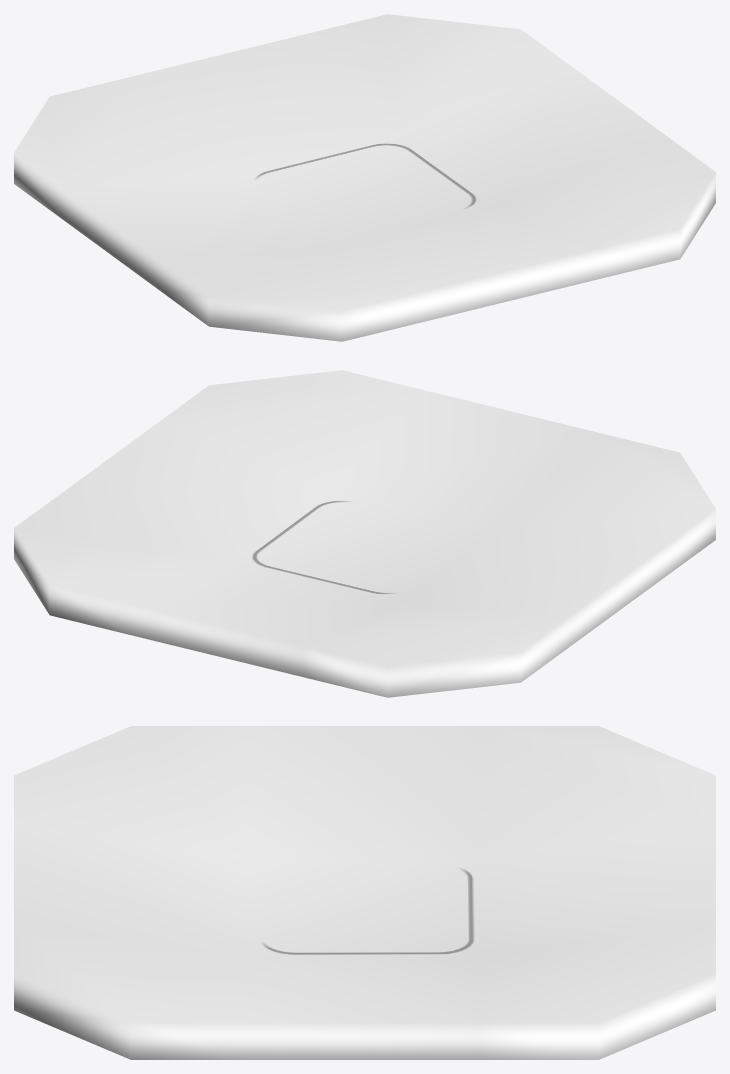
File: BasicPlate3.fbx
The picture shows the model from 3 angles, top to bottom: view 1: azimuth 30°, elevation 25°; view 2: azimuth 150°, elevation 25°; view 3: azimuth 270°, elevation 25°; orthographic projection. The views are drawn at different scales.
Parts seen in each view (by area): view 1: pCube4; view 2: pCube4; view 3: pCube4.
Boxes of the visible parts, x1=… form: pCube4: x1=14, y1=14, x2=715, y2=341; pCube4: x1=14, y1=370, x2=715, y2=697; pCube4: x1=14, y1=726, x2=715, y2=1059.
Bounding box in the file's own units: 0.4064 × 0.0335 × 0.4064.
1 material, 1 textured.
